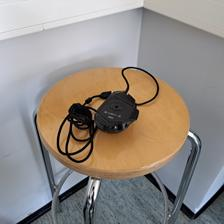mouse: (92, 89, 139, 133)
